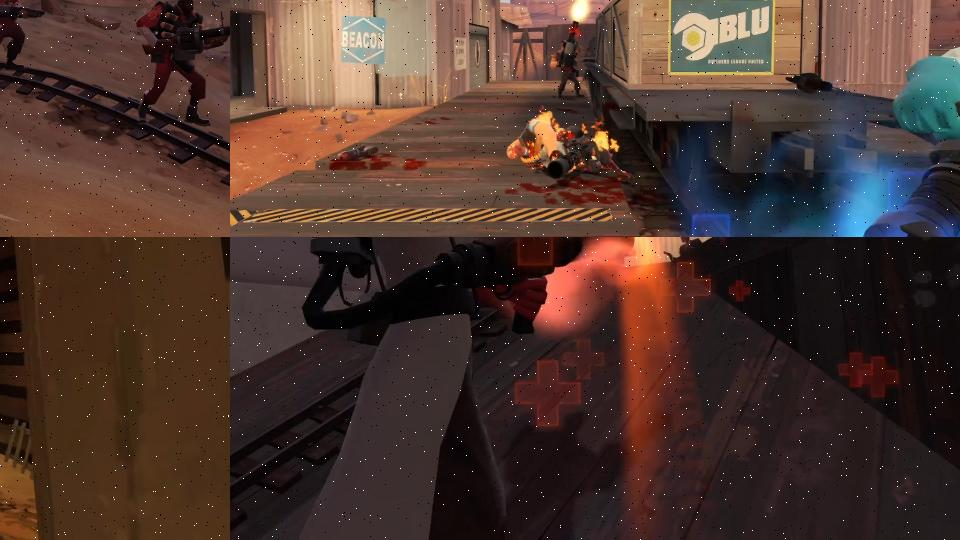Enemy: (304, 237, 644, 540), (860, 15, 960, 237), (135, 0, 230, 127), (505, 110, 632, 183), (0, 0, 45, 77), (549, 20, 587, 99)
